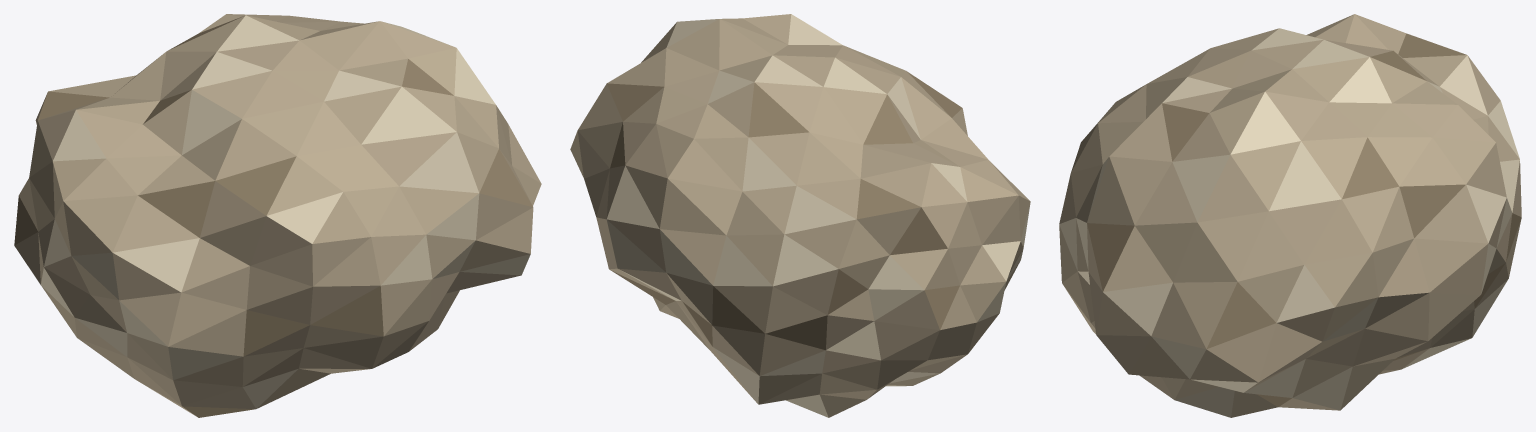
The model's file is gypsum-anhydrite-custom.glb.
The picture shows the model from 3 angles, left to right: view 1: azimuth 30°, elevation 25°; view 2: azimuth 150°, elevation 25°; view 3: azimuth 270°, elevation 25°; orthographic projection. The views are drawn at different scales.
Size of the model in its own units: 2.16 by 1.57 by 1.79.
